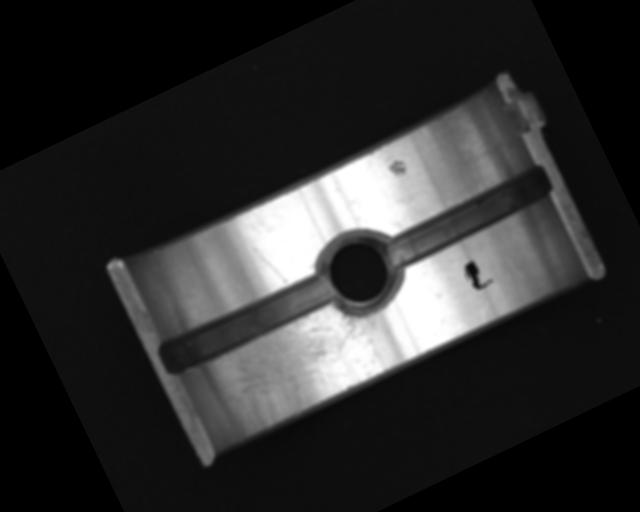blot: (459, 254, 495, 294)
bruise: (386, 156, 411, 180)
gap: (154, 263, 340, 382), (379, 163, 556, 273)
hole: (309, 220, 412, 327)
nick: (253, 241, 289, 291)
scratch: (203, 289, 400, 442)
